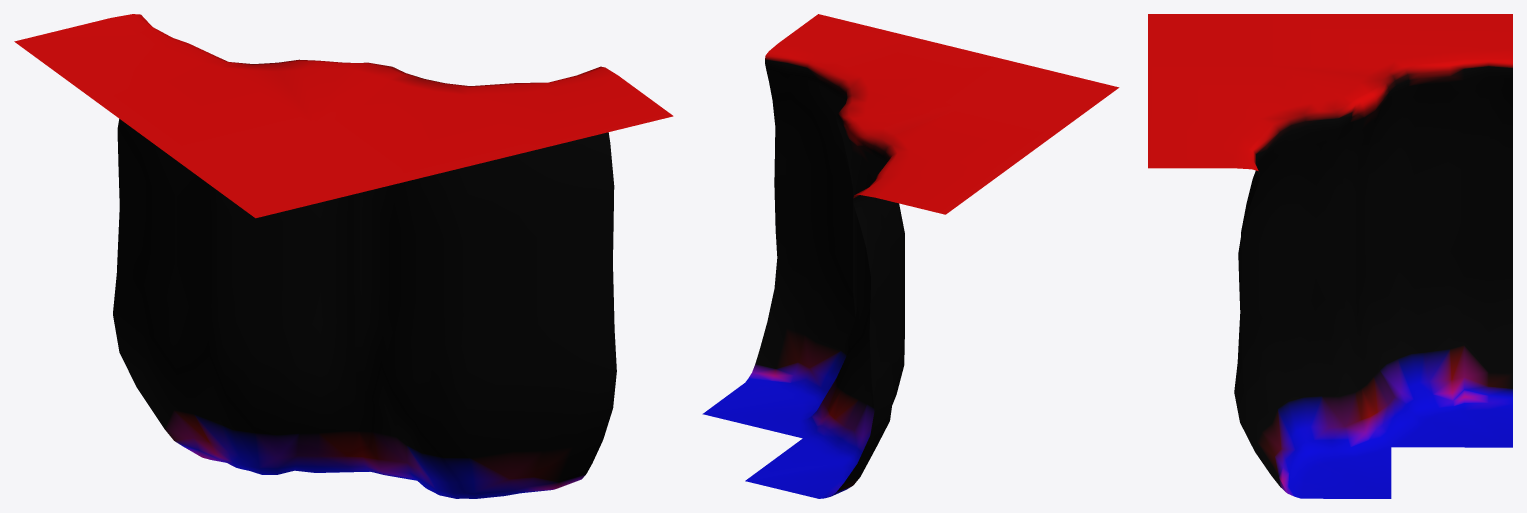
The model's file is GroundCliff04A 3M for Water Background.fbx.
3 views of the same model, side by side, from view 1: azimuth 30°, elevation 25°; view 2: azimuth 150°, elevation 25°; view 3: azimuth 270°, elevation 25° (orthographic). The views are drawn at different scales.
Parts seen in each view (by area): view 1: GroundCliff04A 3M for Water Background; view 2: GroundCliff04A 3M for Water Background; view 3: GroundCliff04A 3M for Water Background.
Part boxes in pixels (left/top/right/bottom): GroundCliff04A 3M for Water Background: left=14, top=14, right=673, bottom=498; GroundCliff04A 3M for Water Background: left=702, top=14, right=1119, bottom=498; GroundCliff04A 3M for Water Background: left=1148, top=14, right=1512, bottom=498.
Bounding box in the file's own units: 3 × 3 × 3.
